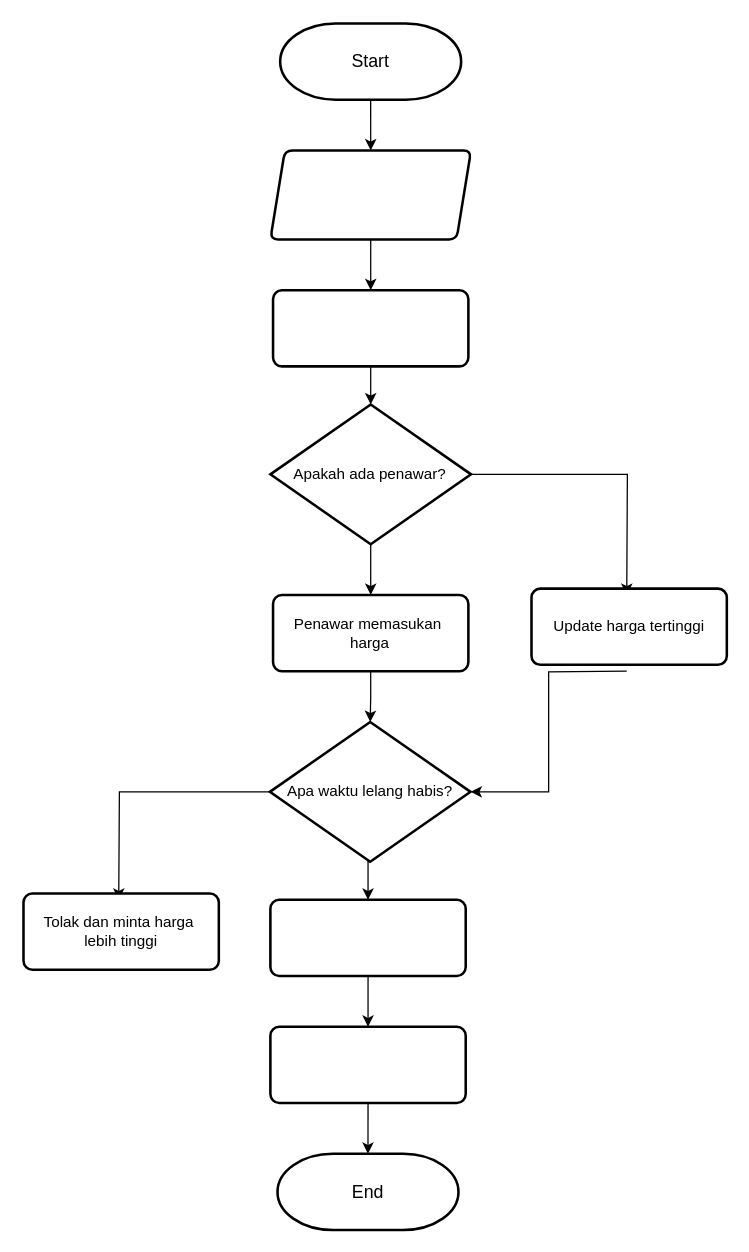
The diagram is 749 pixels wide and 1252 high, and some of its shapes have lost their labels. The shapes that lost their labels are listed below. From the top down, each one's box as (x1, y1, x2, y2) in pixels, then its label:
(268, 149, 472, 240): Admin menginput barang lelang
(271, 288, 469, 367): Barang ditampilkan ke dahsboard
(268, 898, 466, 977): Penetuan Pemenang
(268, 1025, 466, 1104): Pembayaran dan serah barang
